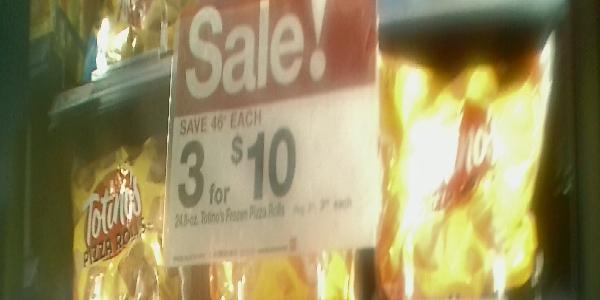icecream: (370, 30, 549, 300), (207, 81, 359, 299), (63, 128, 194, 299)
